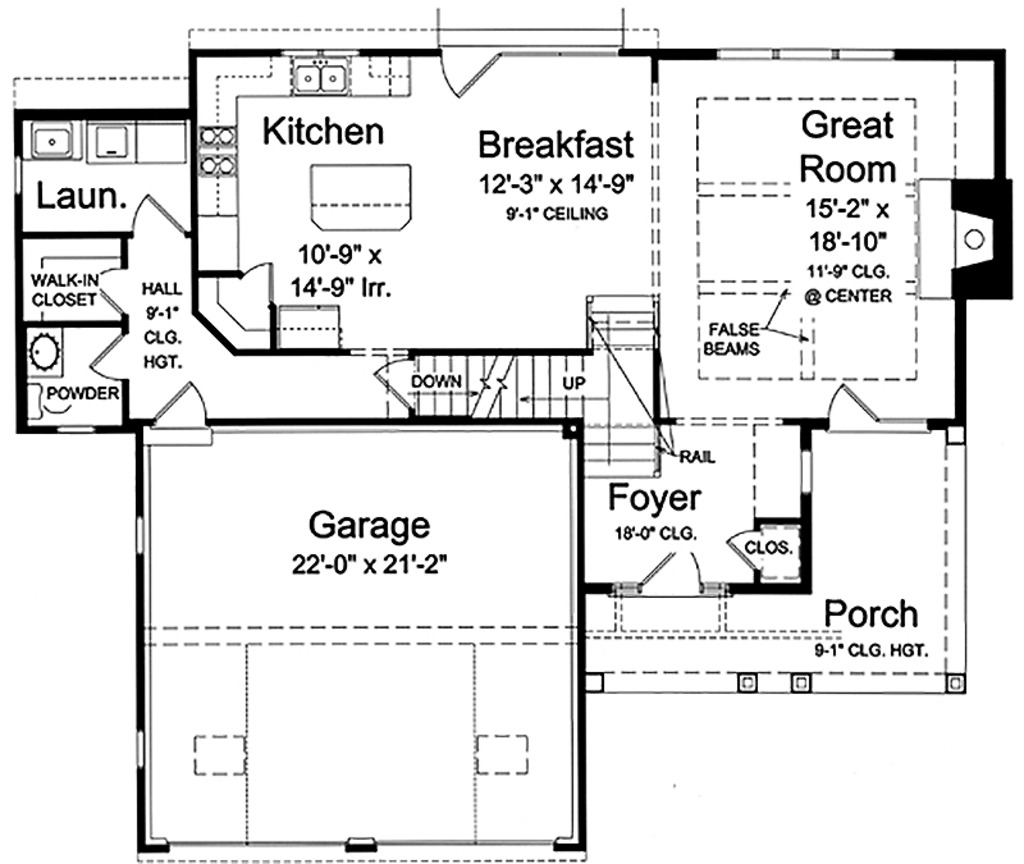door: (143, 375, 215, 451), (639, 527, 708, 603), (437, 43, 515, 102), (76, 267, 143, 318), (819, 381, 884, 433), (127, 194, 188, 235), (81, 329, 133, 377), (723, 523, 761, 577), (233, 258, 281, 299)
kitchen_bar: (304, 158, 415, 234)
large_sink: (19, 377, 84, 430)
sink: (15, 121, 91, 161)
small_sink: (28, 327, 67, 371)
stairs: (405, 345, 664, 434), (584, 295, 669, 485)
twin_sink: (279, 46, 365, 99)
window: (705, 39, 897, 65)
